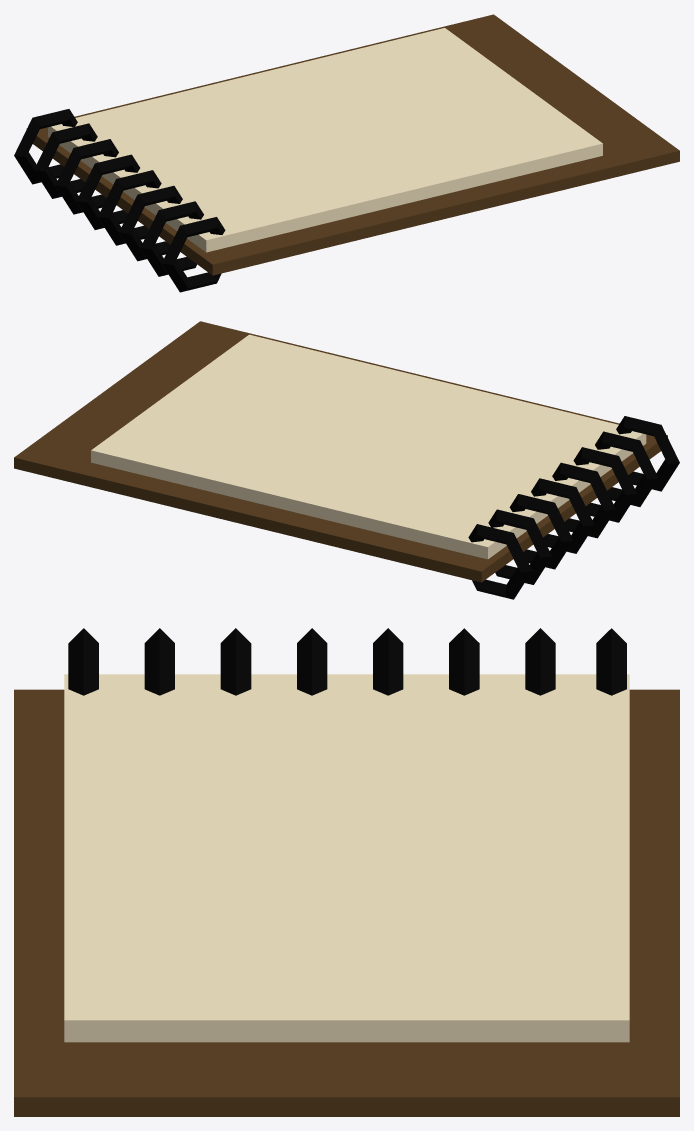
Rendered from note.fbx.
3 views of the same model, one above another, from view 1: azimuth 30°, elevation 25°; view 2: azimuth 150°, elevation 25°; view 3: azimuth 270°, elevation 25° (orthographic). The views are drawn at different scales.
Parts seen in each view (by area): view 1: Torus; view 2: Torus; view 3: Torus.
Part boxes in pixels (box(x1,y1,x2,y2)): Torus: box(14, 14, 679, 292); Torus: box(14, 321, 679, 599); Torus: box(14, 628, 679, 1116).
Size of the model in its own units: 16.92 by 2.17 by 10.94.
